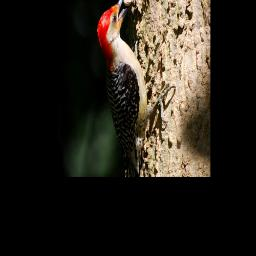Woodpecker: (97, 0, 178, 175)
